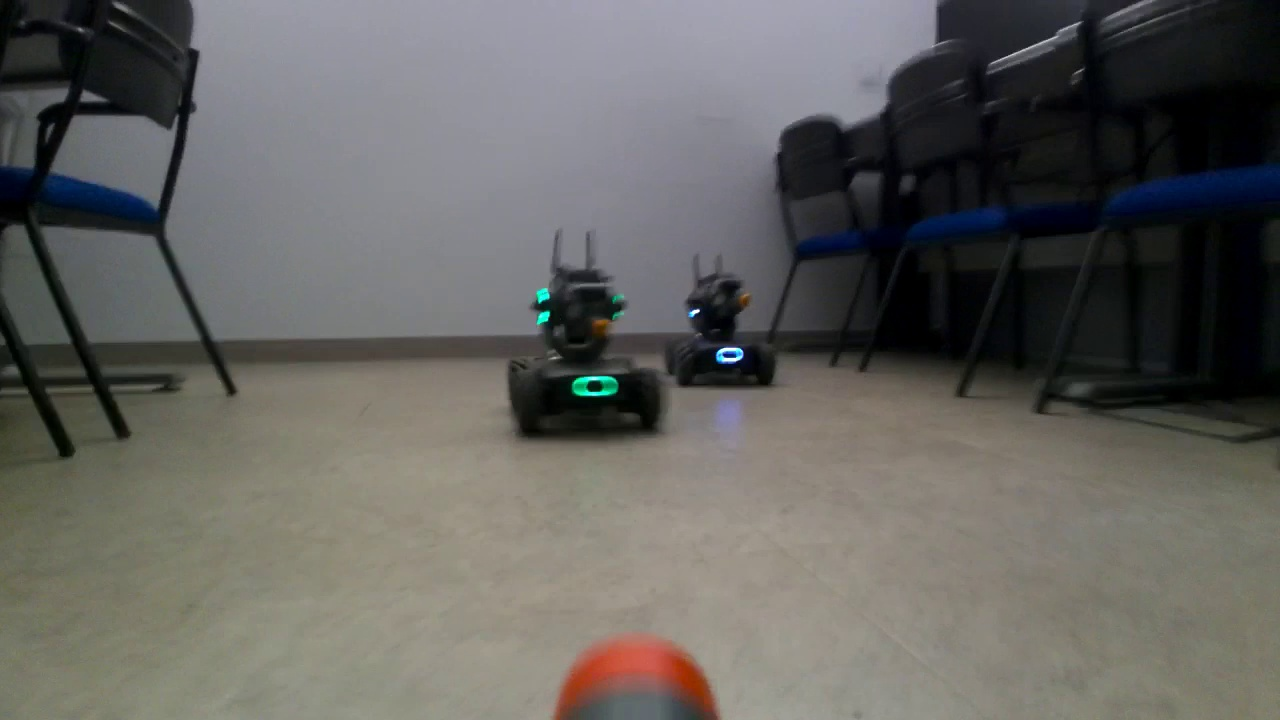robot: (506, 230, 663, 428), (671, 256, 776, 391)
